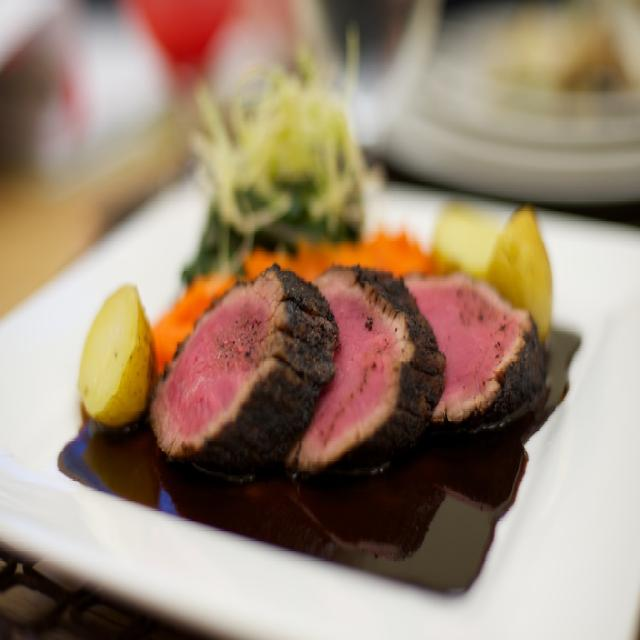Lemon: (80, 284, 153, 426), (487, 202, 554, 343)
